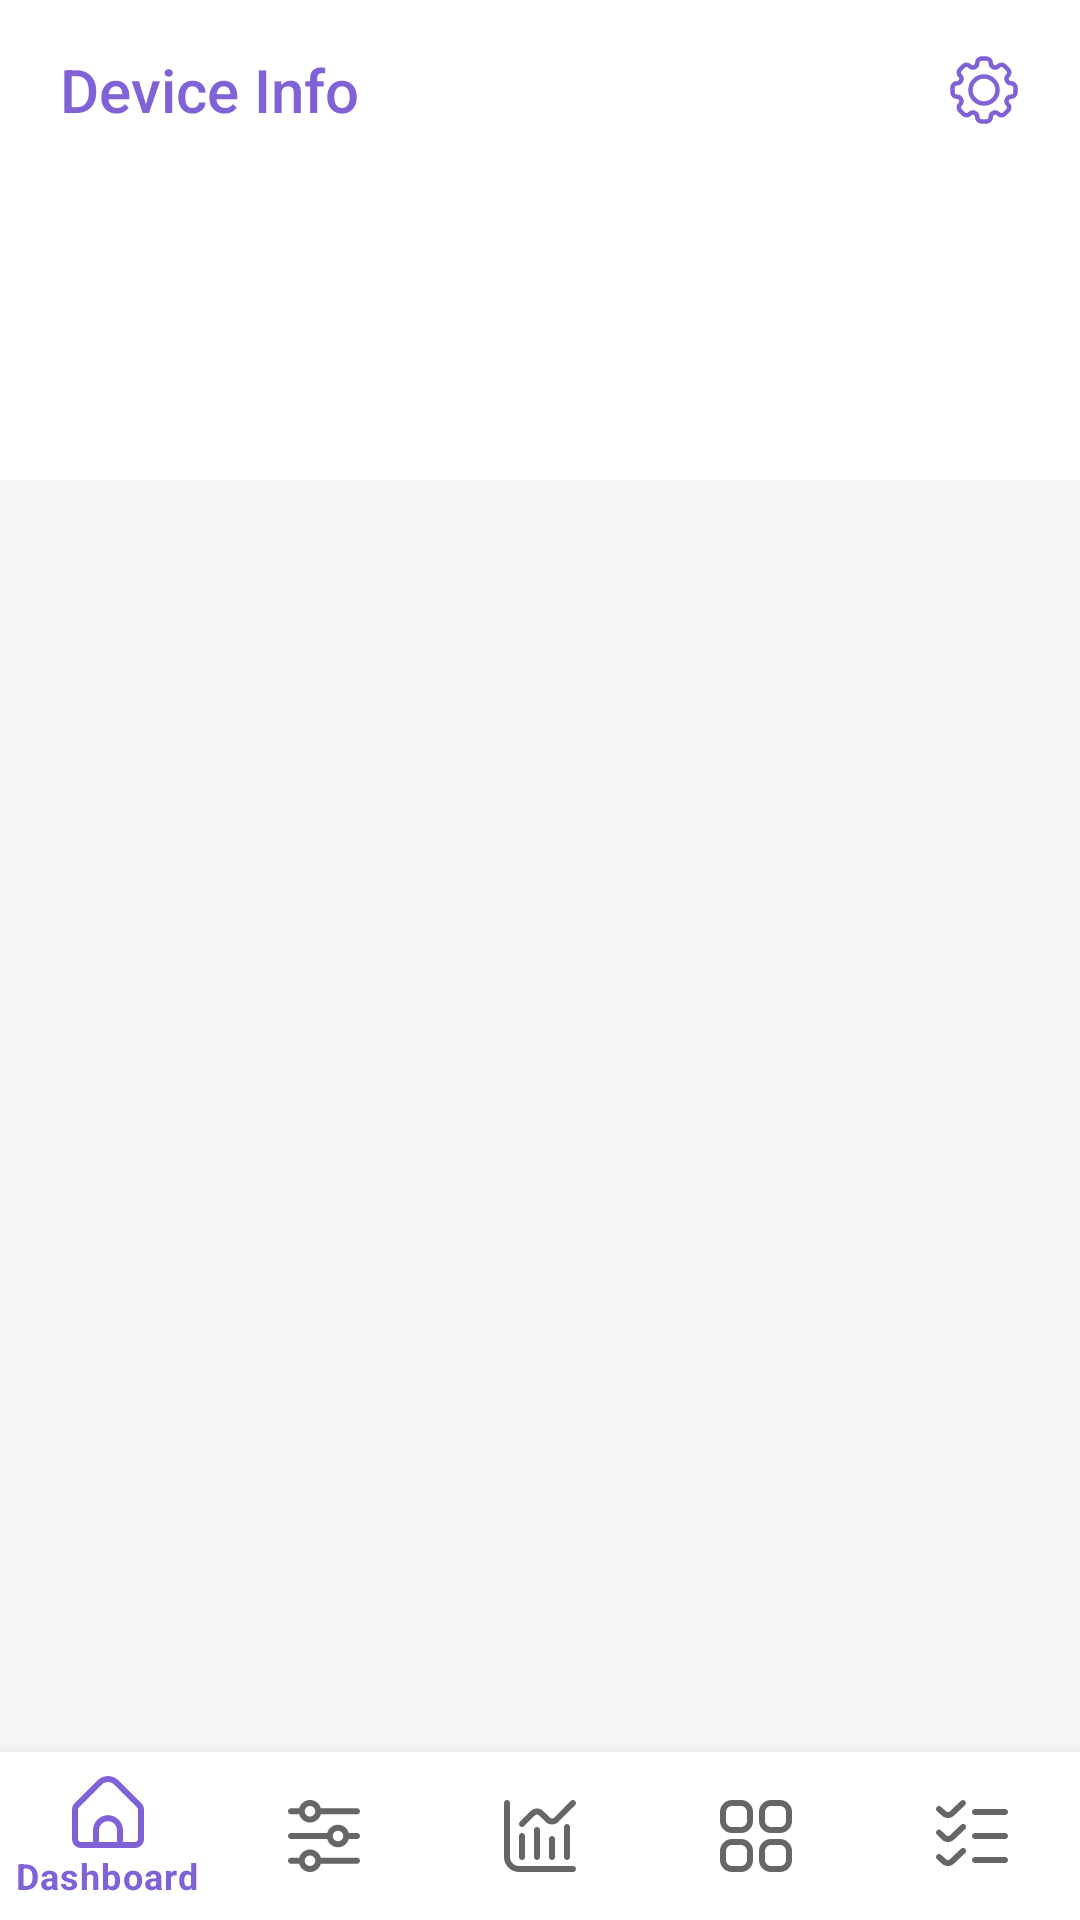

Screen size 1080w x 1920h. Icon name, then its center in pixels as point (x, y):
settings: point (984, 90)
